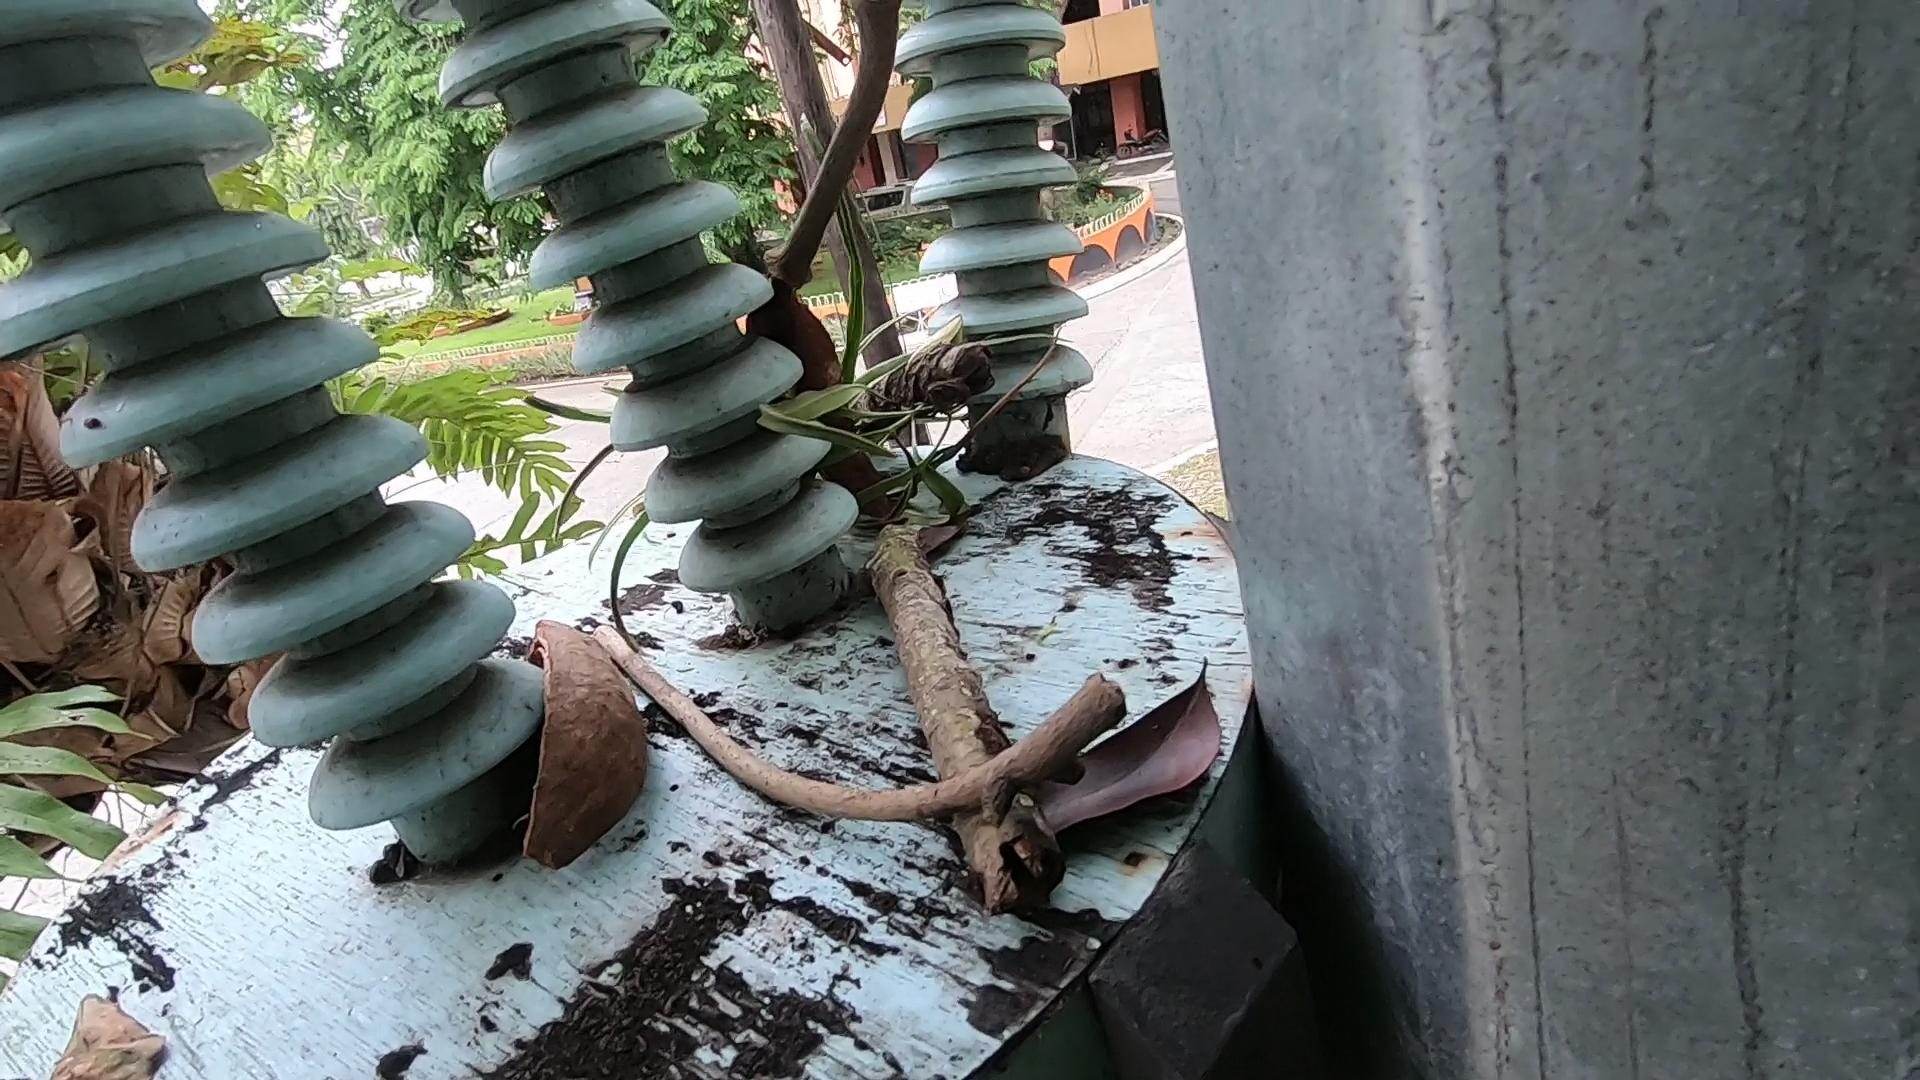branch with leaves: (833, 290, 1120, 895)
leaf: (1025, 617, 1269, 891), (32, 988, 129, 1071)
mahogany fruit: (720, 253, 891, 564), (491, 601, 633, 898)
tree branch: (607, 640, 1162, 828), (781, 1, 1044, 363)
